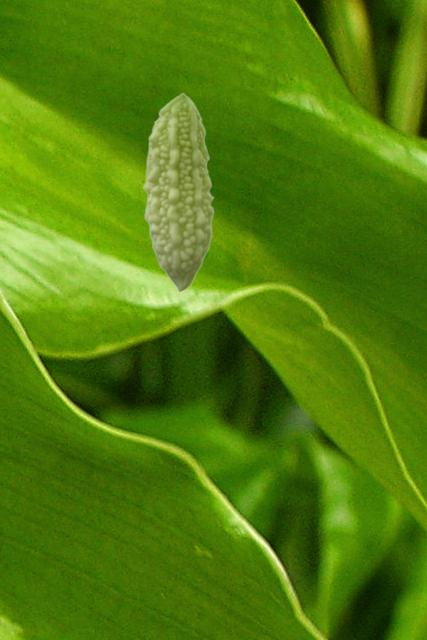ampalaya: (142, 90, 214, 292)
